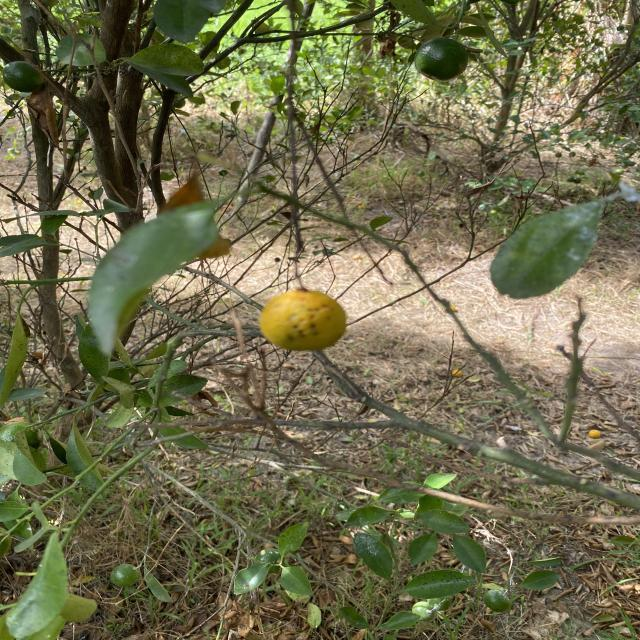black spot: (256, 284, 347, 351)
